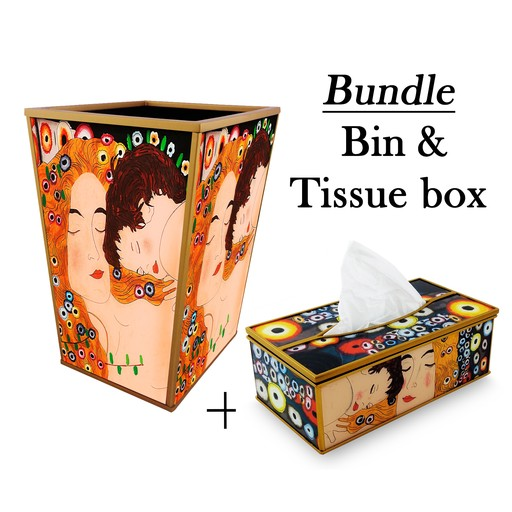Tissue: (331, 239, 429, 336)
